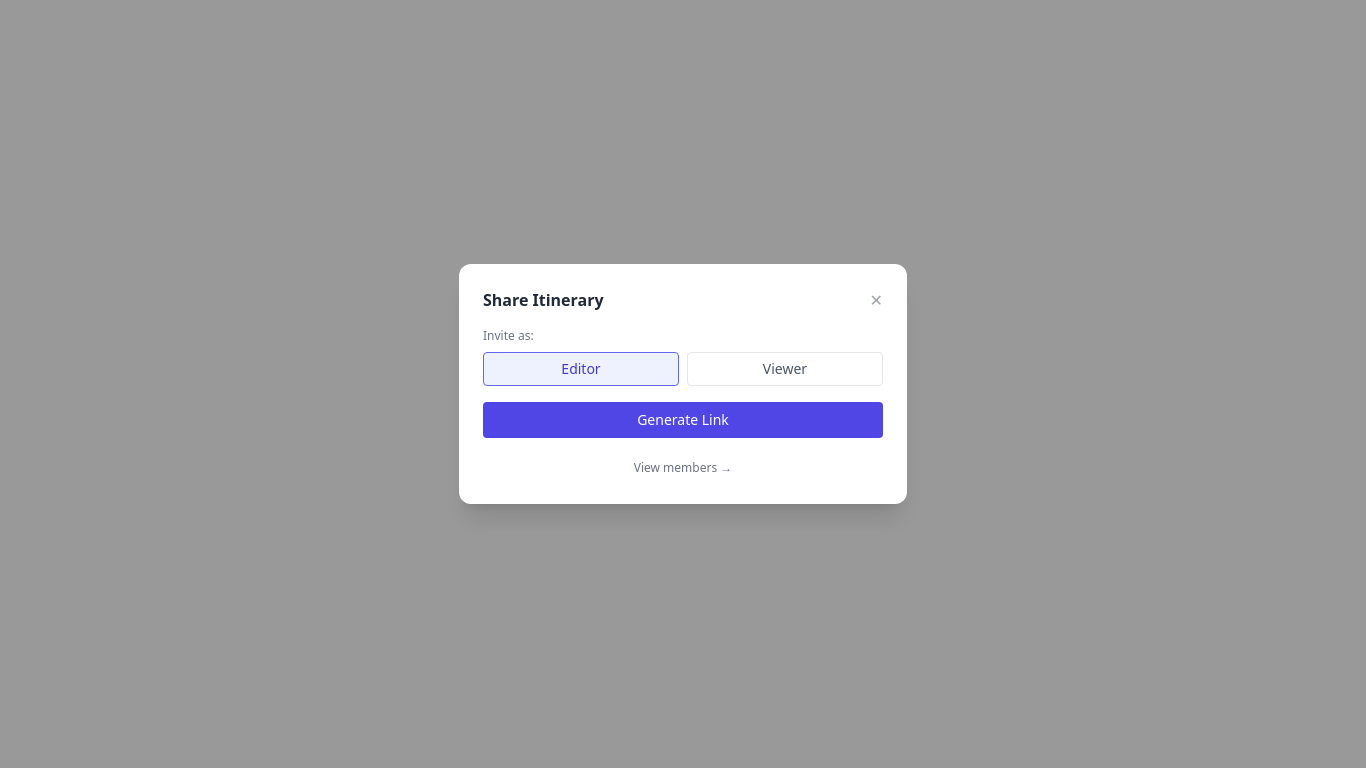
Test: ShareLinksModal › generates a link with selected role
Click the button "Generate Link": [683, 420] box [483, 402, 883, 438]
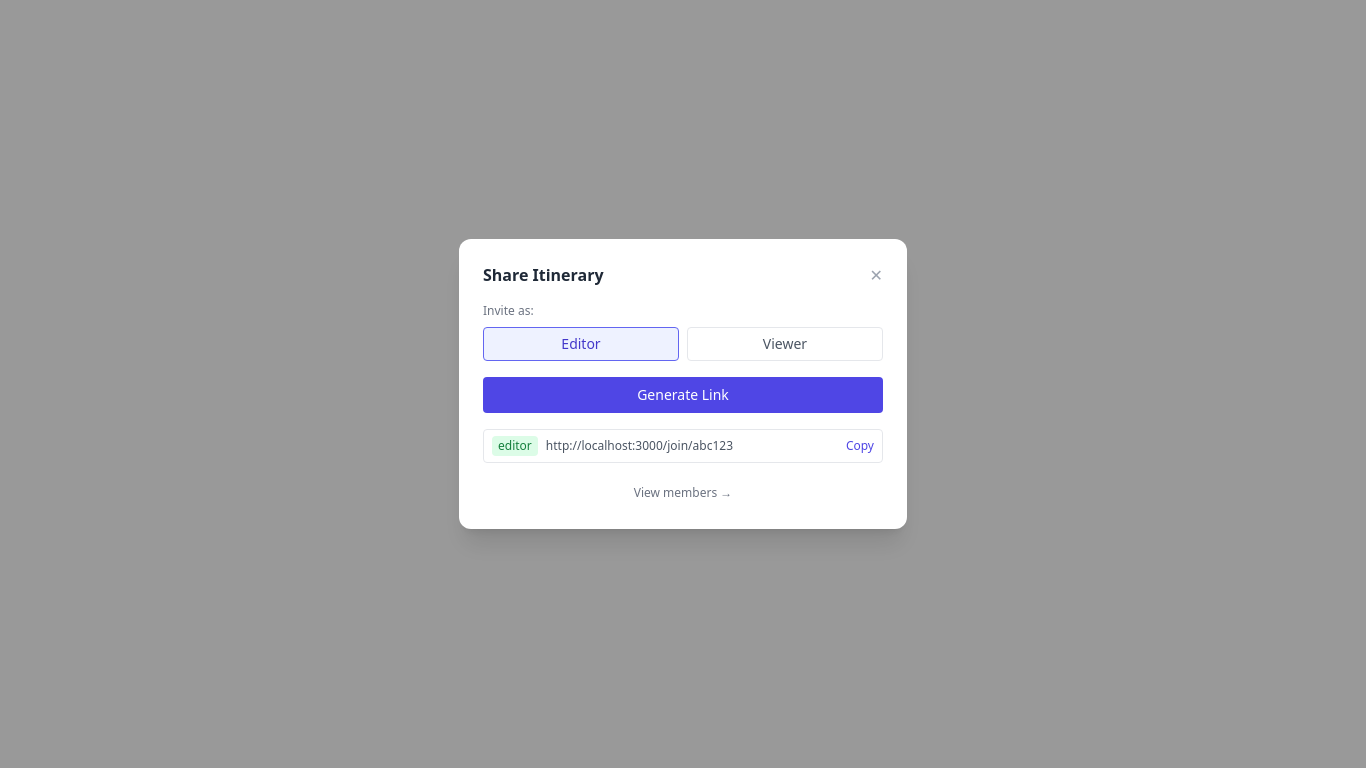
Now the field showing "http://localhost:3000/join/abc123" is shown, box [546, 438, 838, 454]
